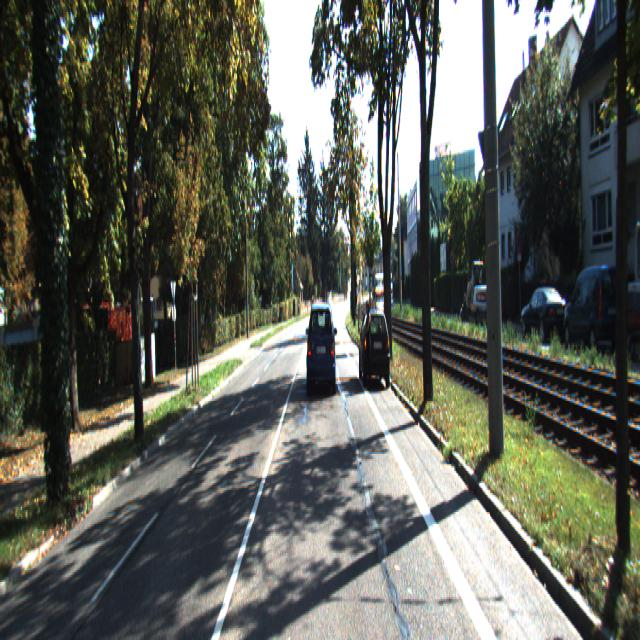Car: (564, 257, 626, 349), (306, 298, 337, 397), (522, 282, 570, 341), (358, 306, 390, 388), (626, 215, 640, 353), (470, 257, 488, 318)
